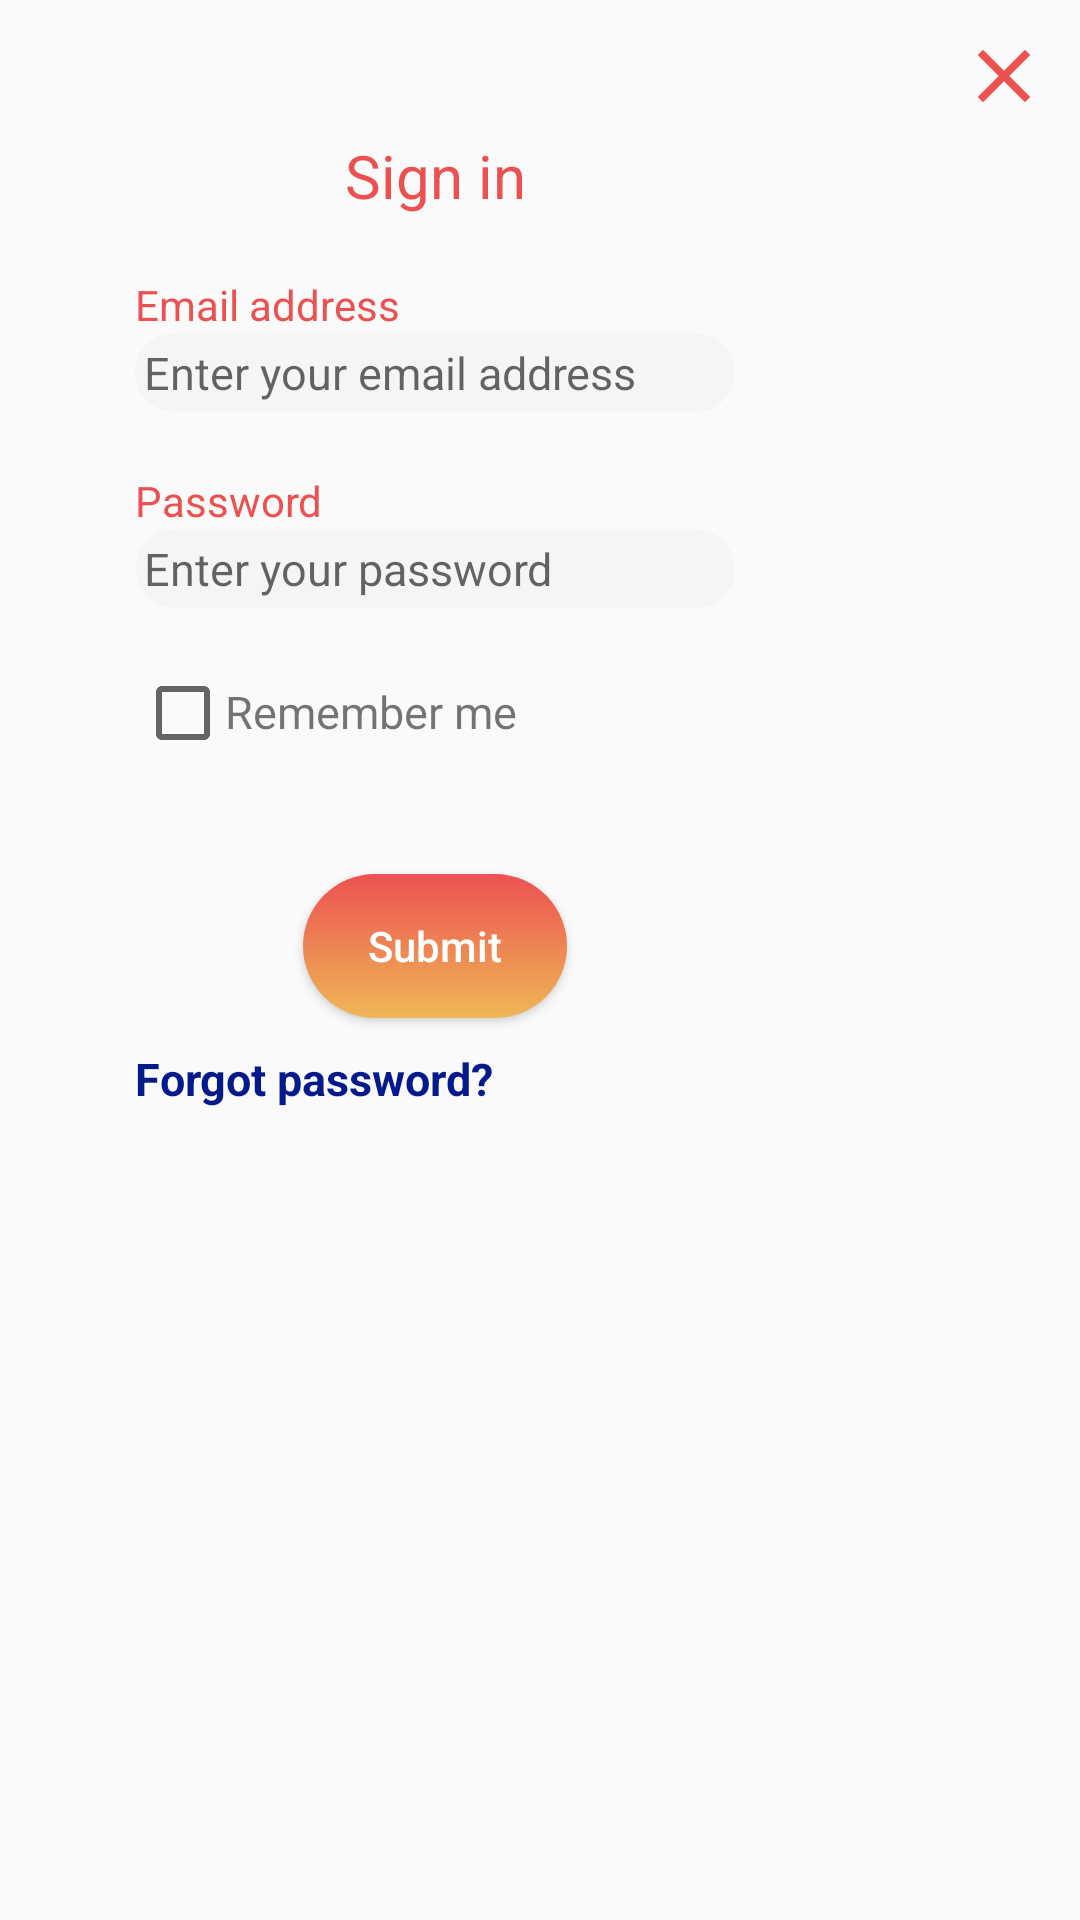

Point at icon controls on the screen. Image size 1080px×1920px, points as (x=x, y=y).
close: (x=1004, y=76)
